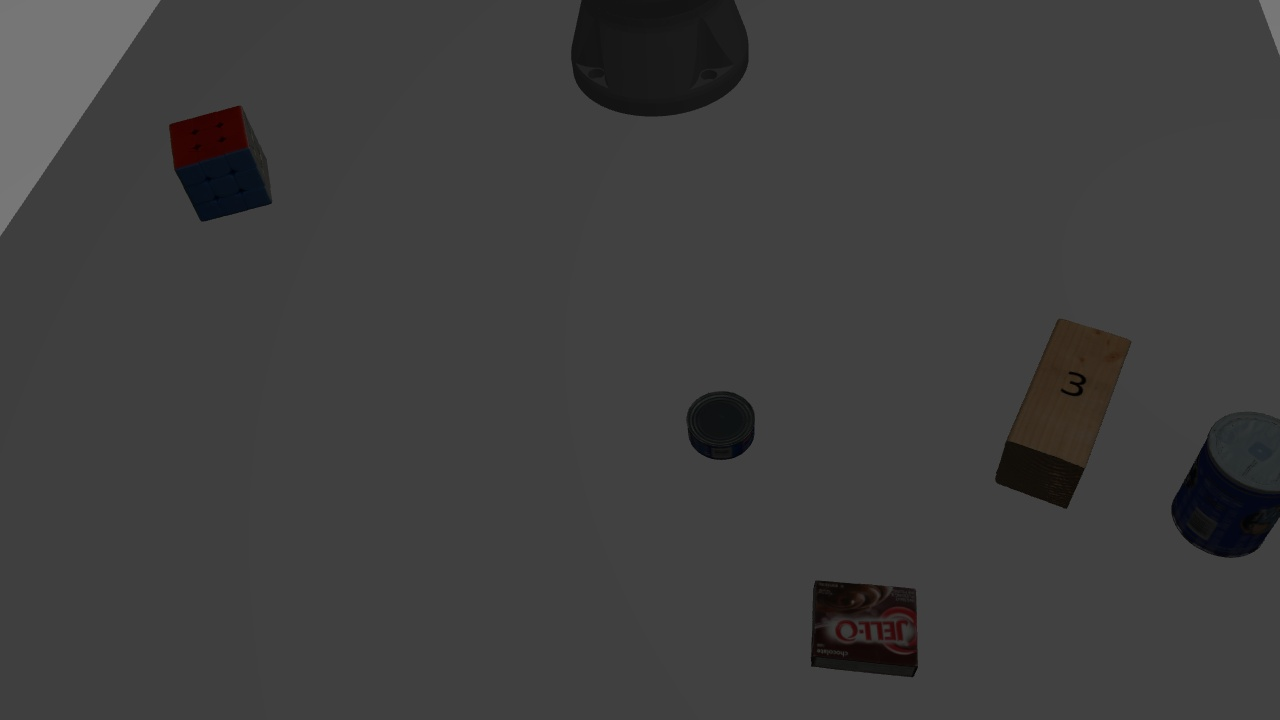master_chef_can: (1169, 399, 1276, 557)
pudding_box: (807, 571, 928, 682)
rubiks_cube: (163, 105, 272, 221)
wood_block: (1000, 302, 1127, 512)
